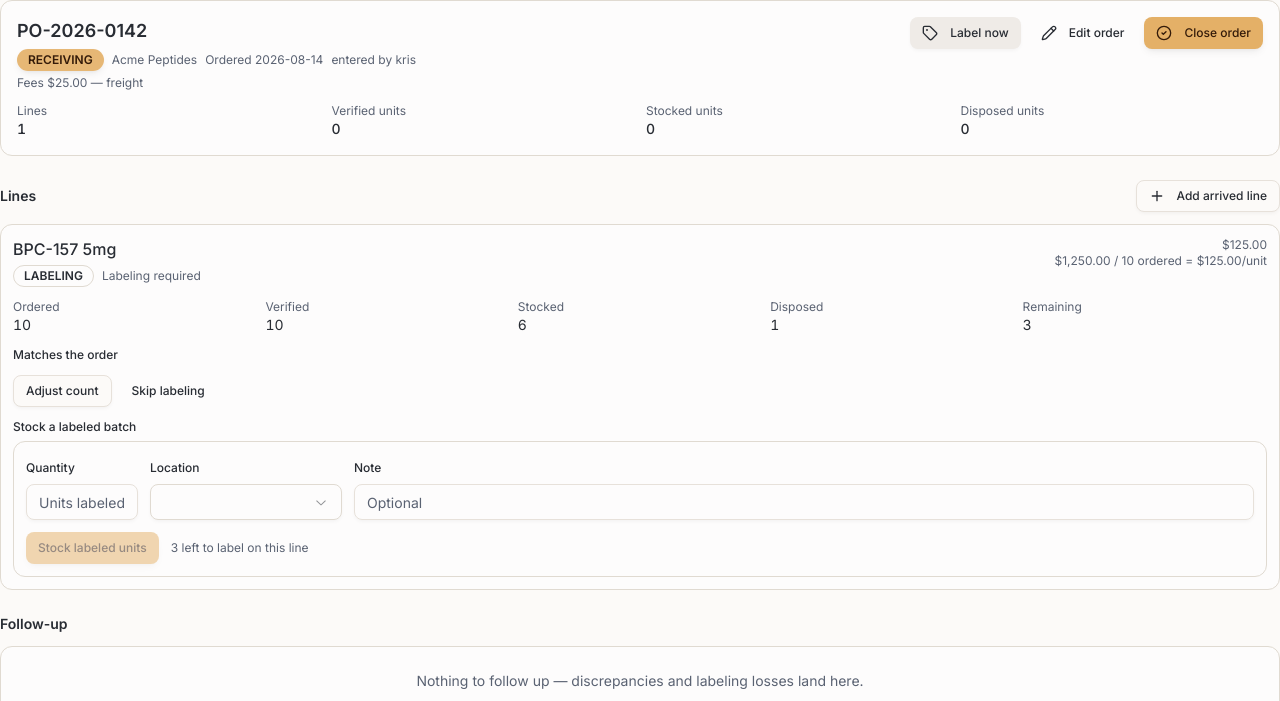
Test: a refusal › shows a VERIFIED_LOCKED adjust refusal verbatim, and never resubmits
Click the button "Adjust count": [62, 391] box [13,375,112,407]
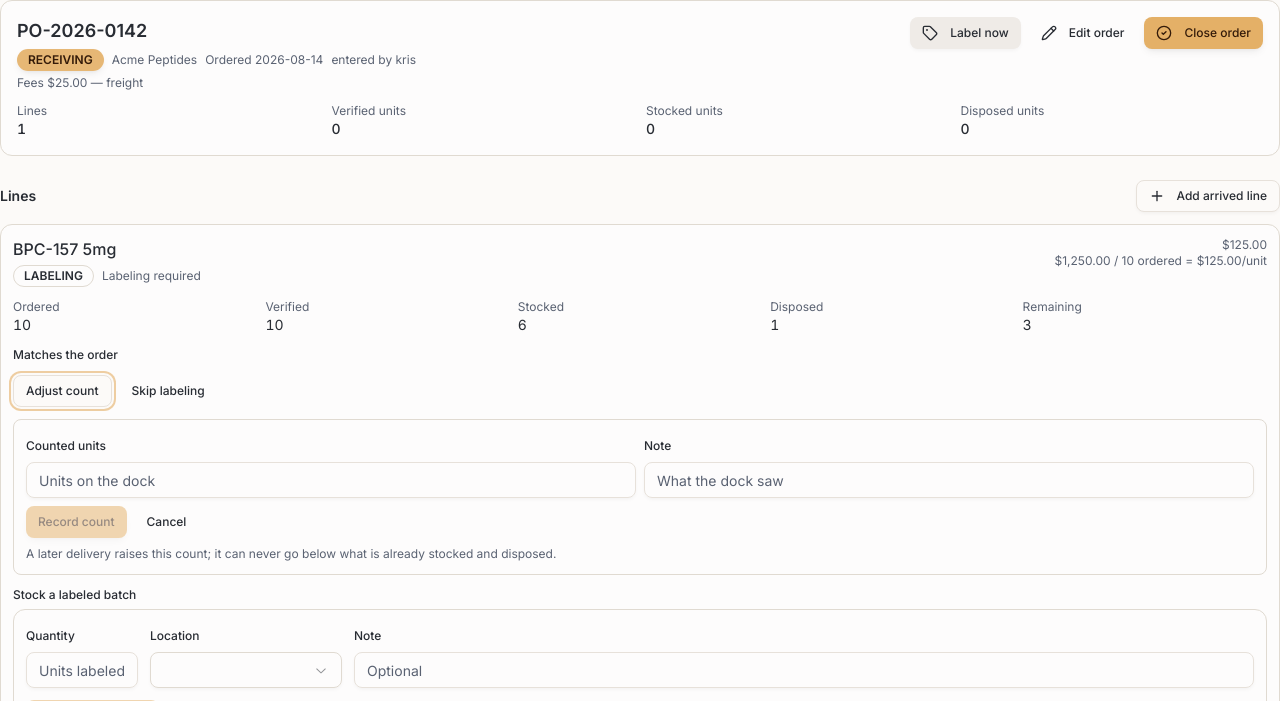
In the field labelled "Counted units": [331, 480] box [26,462,636,498], type "4"
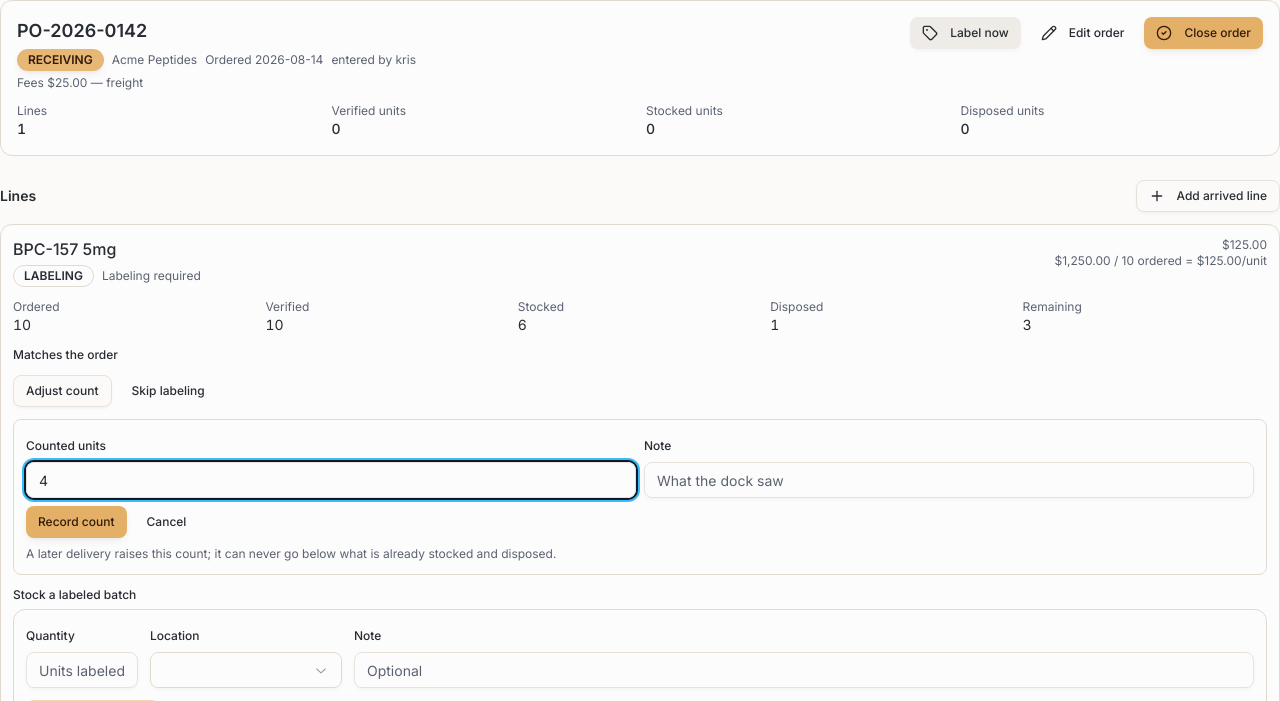
Click the button "Record count": [76, 522] box [26,506,127,538]
(page scrolled)
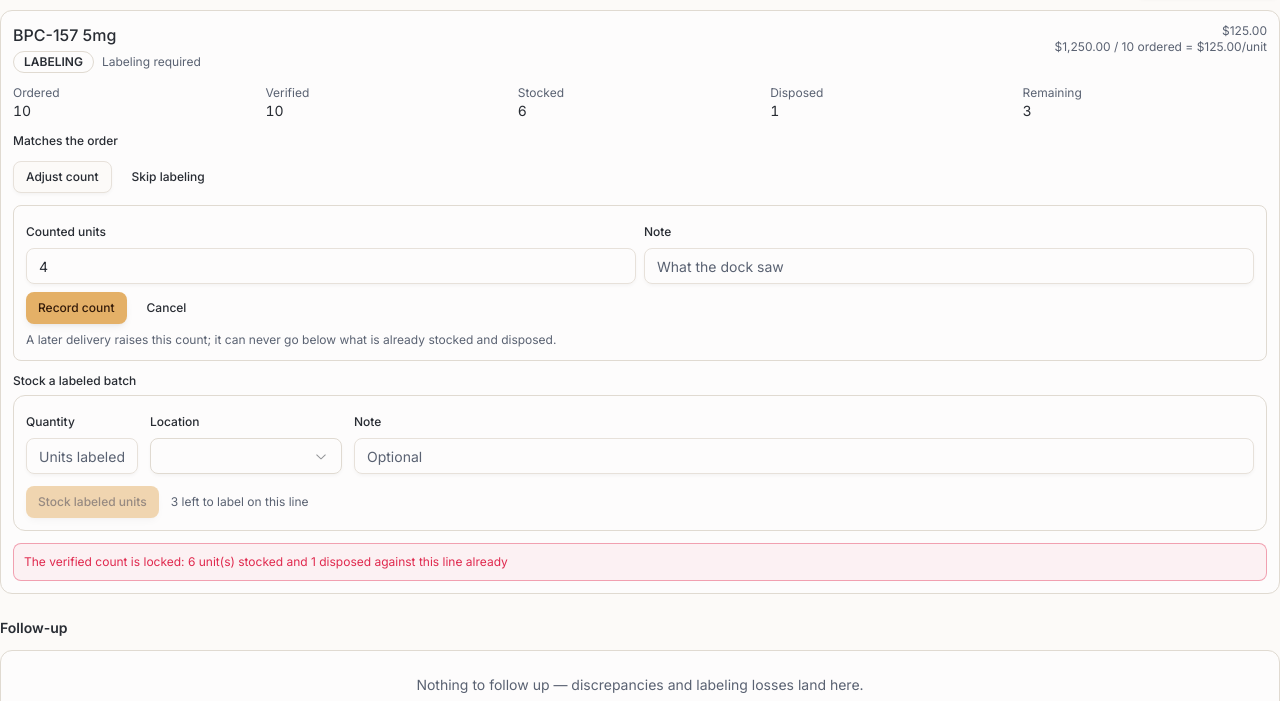
Check: the text "The verified count is locked: 6 unit(s) stocked and 1 disposed against this line already" is shown, box [24,554,508,569]
